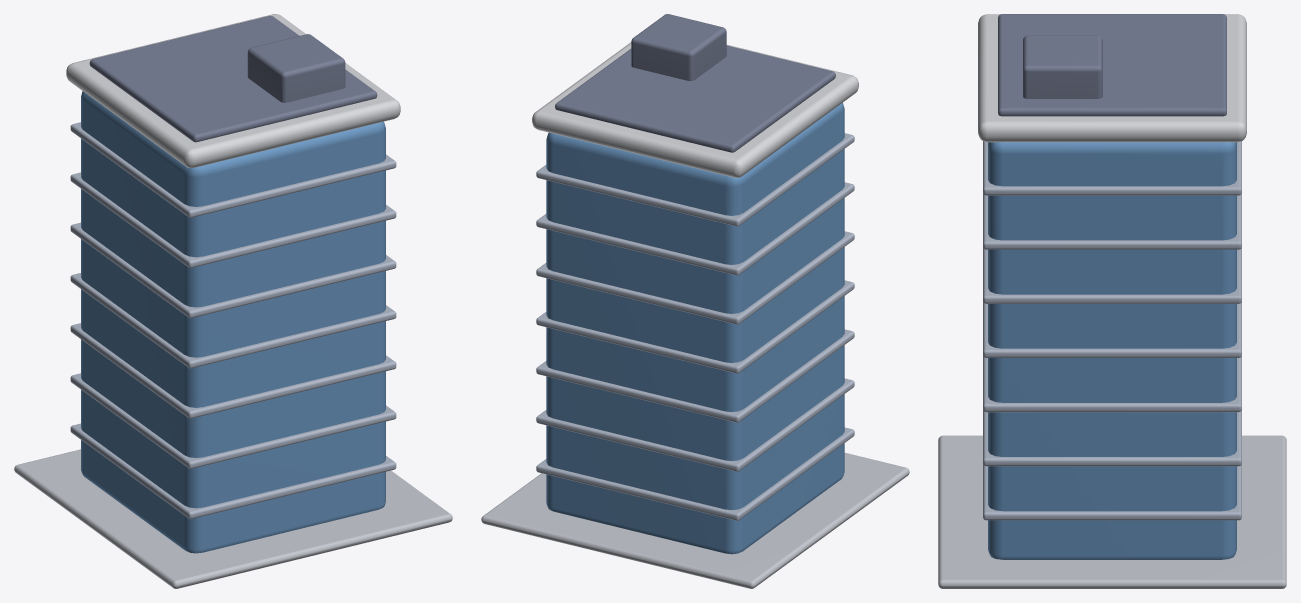
3 views of the same model, side by side, from view 1: azimuth 30°, elevation 25°; view 2: azimuth 150°, elevation 25°; view 3: azimuth 270°, elevation 25° (orthographic). The views are drawn at different scales.
Parts seen in each view (by area): view 1: Cube; view 2: Cube; view 3: Cube.
Boxes of the visible parts, <box> form: Cube: <box>14,14,452,588</box>; Cube: <box>481,14,909,588</box>; Cube: <box>938,14,1286,588</box>.
Bounding box in the file's own units: 0.7 × 1.08 × 0.7.
